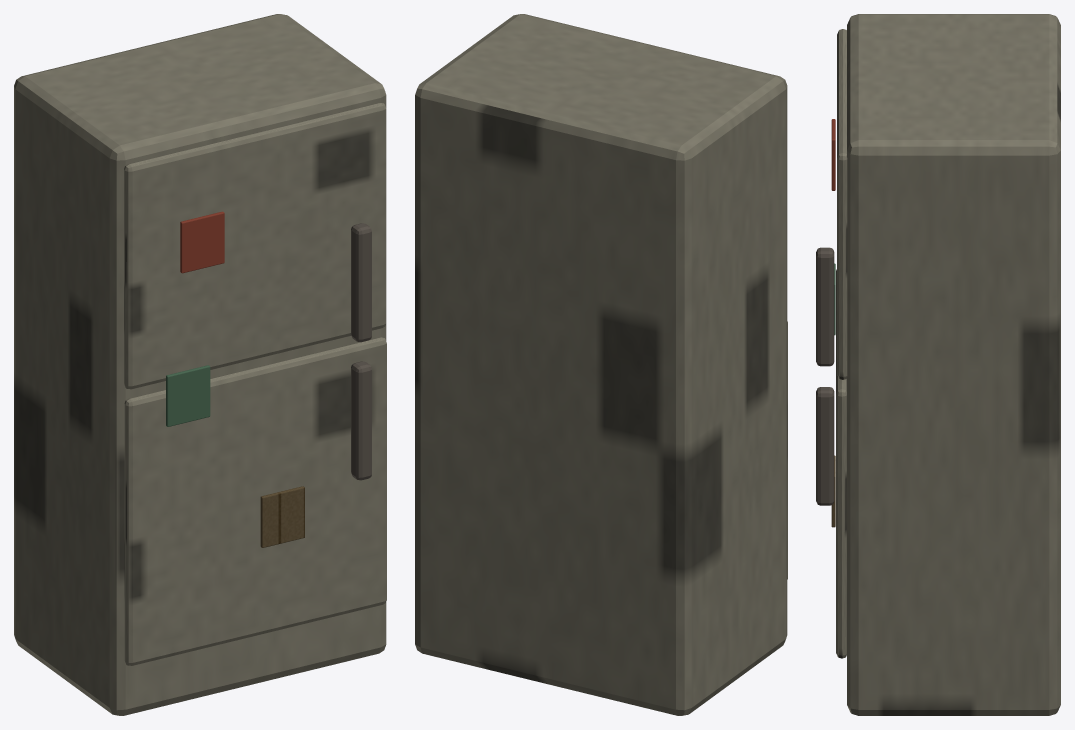
Rendered from dirty-fridge.glb.
3 renders of one model, left to right at view 1: azimuth 30°, elevation 25°; view 2: azimuth 150°, elevation 25°; view 3: azimuth 270°, elevation 25°, orthographic.
Parts seen in each view (by area): view 1: SM_lonely_house_dirty_fridge_DirtyEnamel, SM_lonely_house_dirty_fridge_OxidizedMetal, SM_FridgeMagnet_0, SM_FridgeMagnet_1, SM_FridgeMagnet_2; view 2: SM_lonely_house_dirty_fridge_DirtyEnamel; view 3: SM_lonely_house_dirty_fridge_DirtyEnamel, SM_lonely_house_dirty_fridge_OxidizedMetal.
Boxes of the visible parts, left/top/right/bottom form: SM_lonely_house_dirty_fridge_DirtyEnamel: left=14, top=14, right=386, bottom=715; SM_lonely_house_dirty_fridge_OxidizedMetal: left=351, top=223, right=371, bottom=480; SM_FridgeMagnet_0: left=180, top=211, right=224, bottom=273; SM_FridgeMagnet_1: left=260, top=486, right=304, bottom=547; SM_FridgeMagnet_2: left=166, top=365, right=210, bottom=426; SM_lonely_house_dirty_fridge_DirtyEnamel: left=415, top=14, right=787, bottom=715; SM_lonely_house_dirty_fridge_DirtyEnamel: left=836, top=14, right=1060, bottom=715; SM_lonely_house_dirty_fridge_OxidizedMetal: left=816, top=247, right=834, bottom=505.
Bounding box in the file's own units: 0.96 × 1.9 × 0.7325.
5 materials, 2 textured.
